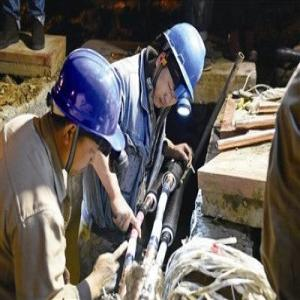blue: (52, 47, 118, 174), (152, 22, 206, 119)
